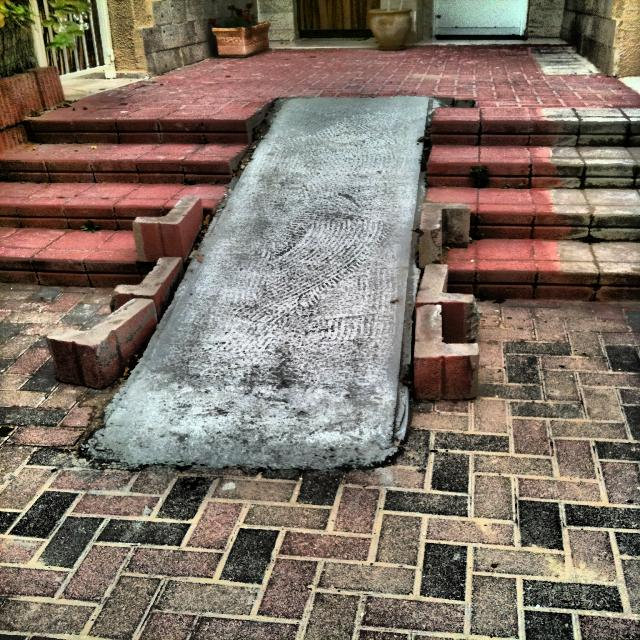escada: (420, 106, 634, 325), (4, 118, 249, 287)
